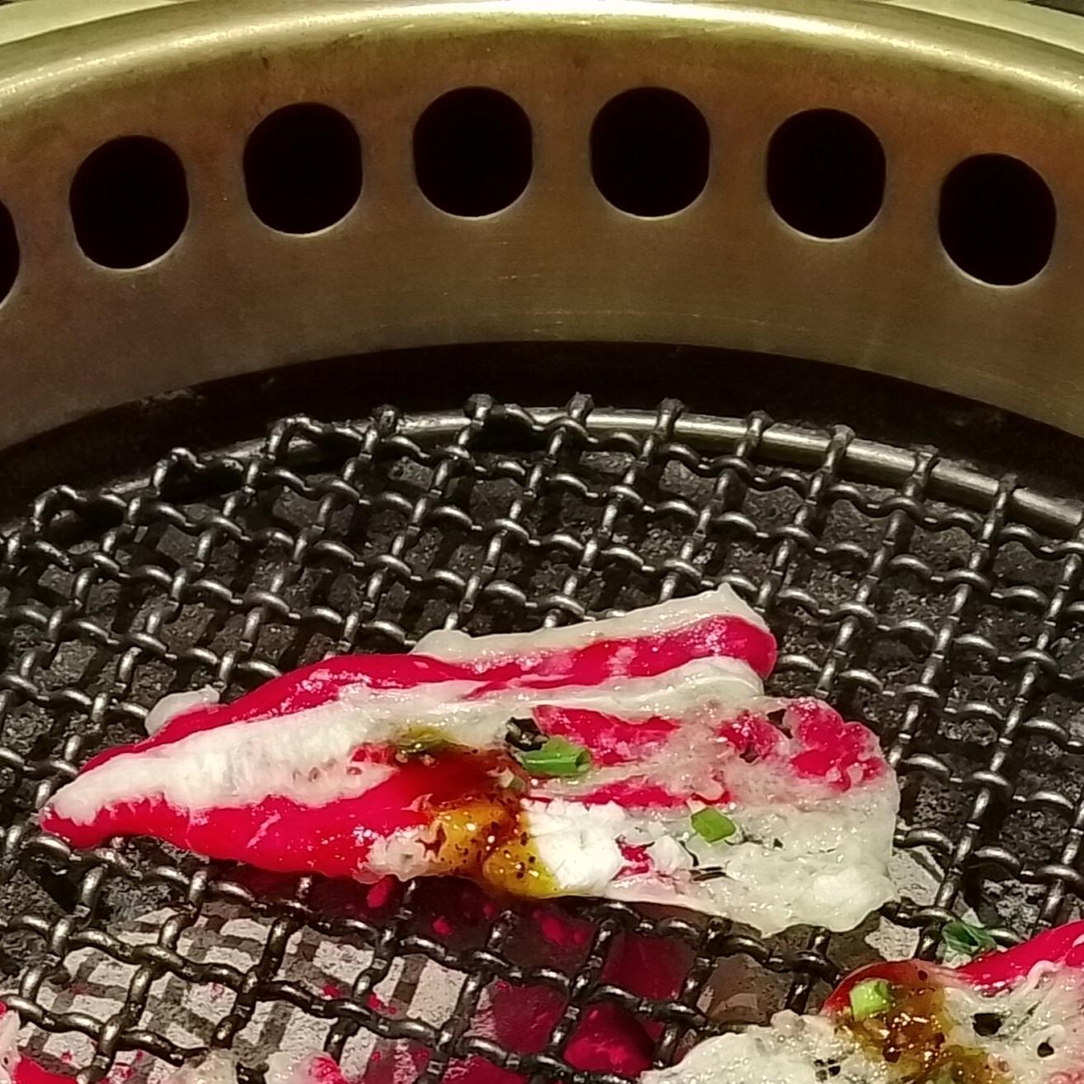Undercooked: (40, 585, 899, 935), (645, 921, 1083, 1083)
